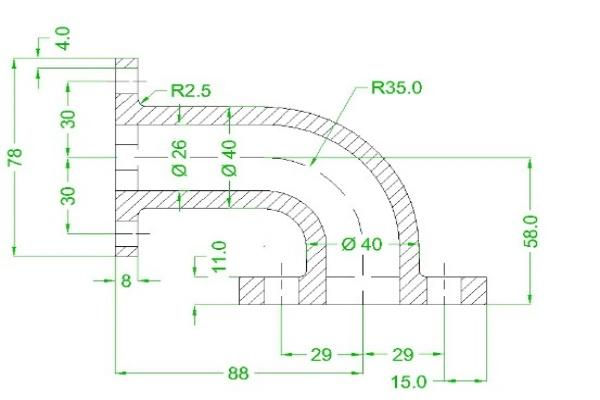dimensions: (363, 70, 428, 101), (162, 132, 198, 182), (382, 366, 436, 393), (164, 77, 220, 103), (46, 22, 84, 54), (340, 234, 390, 258), (204, 236, 235, 274), (516, 212, 544, 252), (218, 140, 246, 178), (382, 342, 420, 362), (306, 344, 339, 366), (3, 144, 30, 168), (227, 360, 252, 384), (58, 184, 82, 208), (57, 109, 80, 133), (114, 270, 138, 290)
